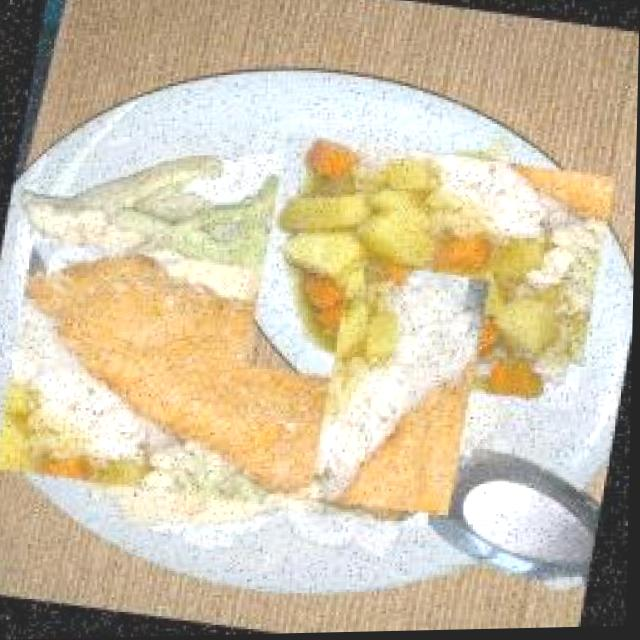curry: (245, 129, 618, 421)
fried_chicken: (0, 232, 472, 538)
rice: (291, 281, 513, 503)
